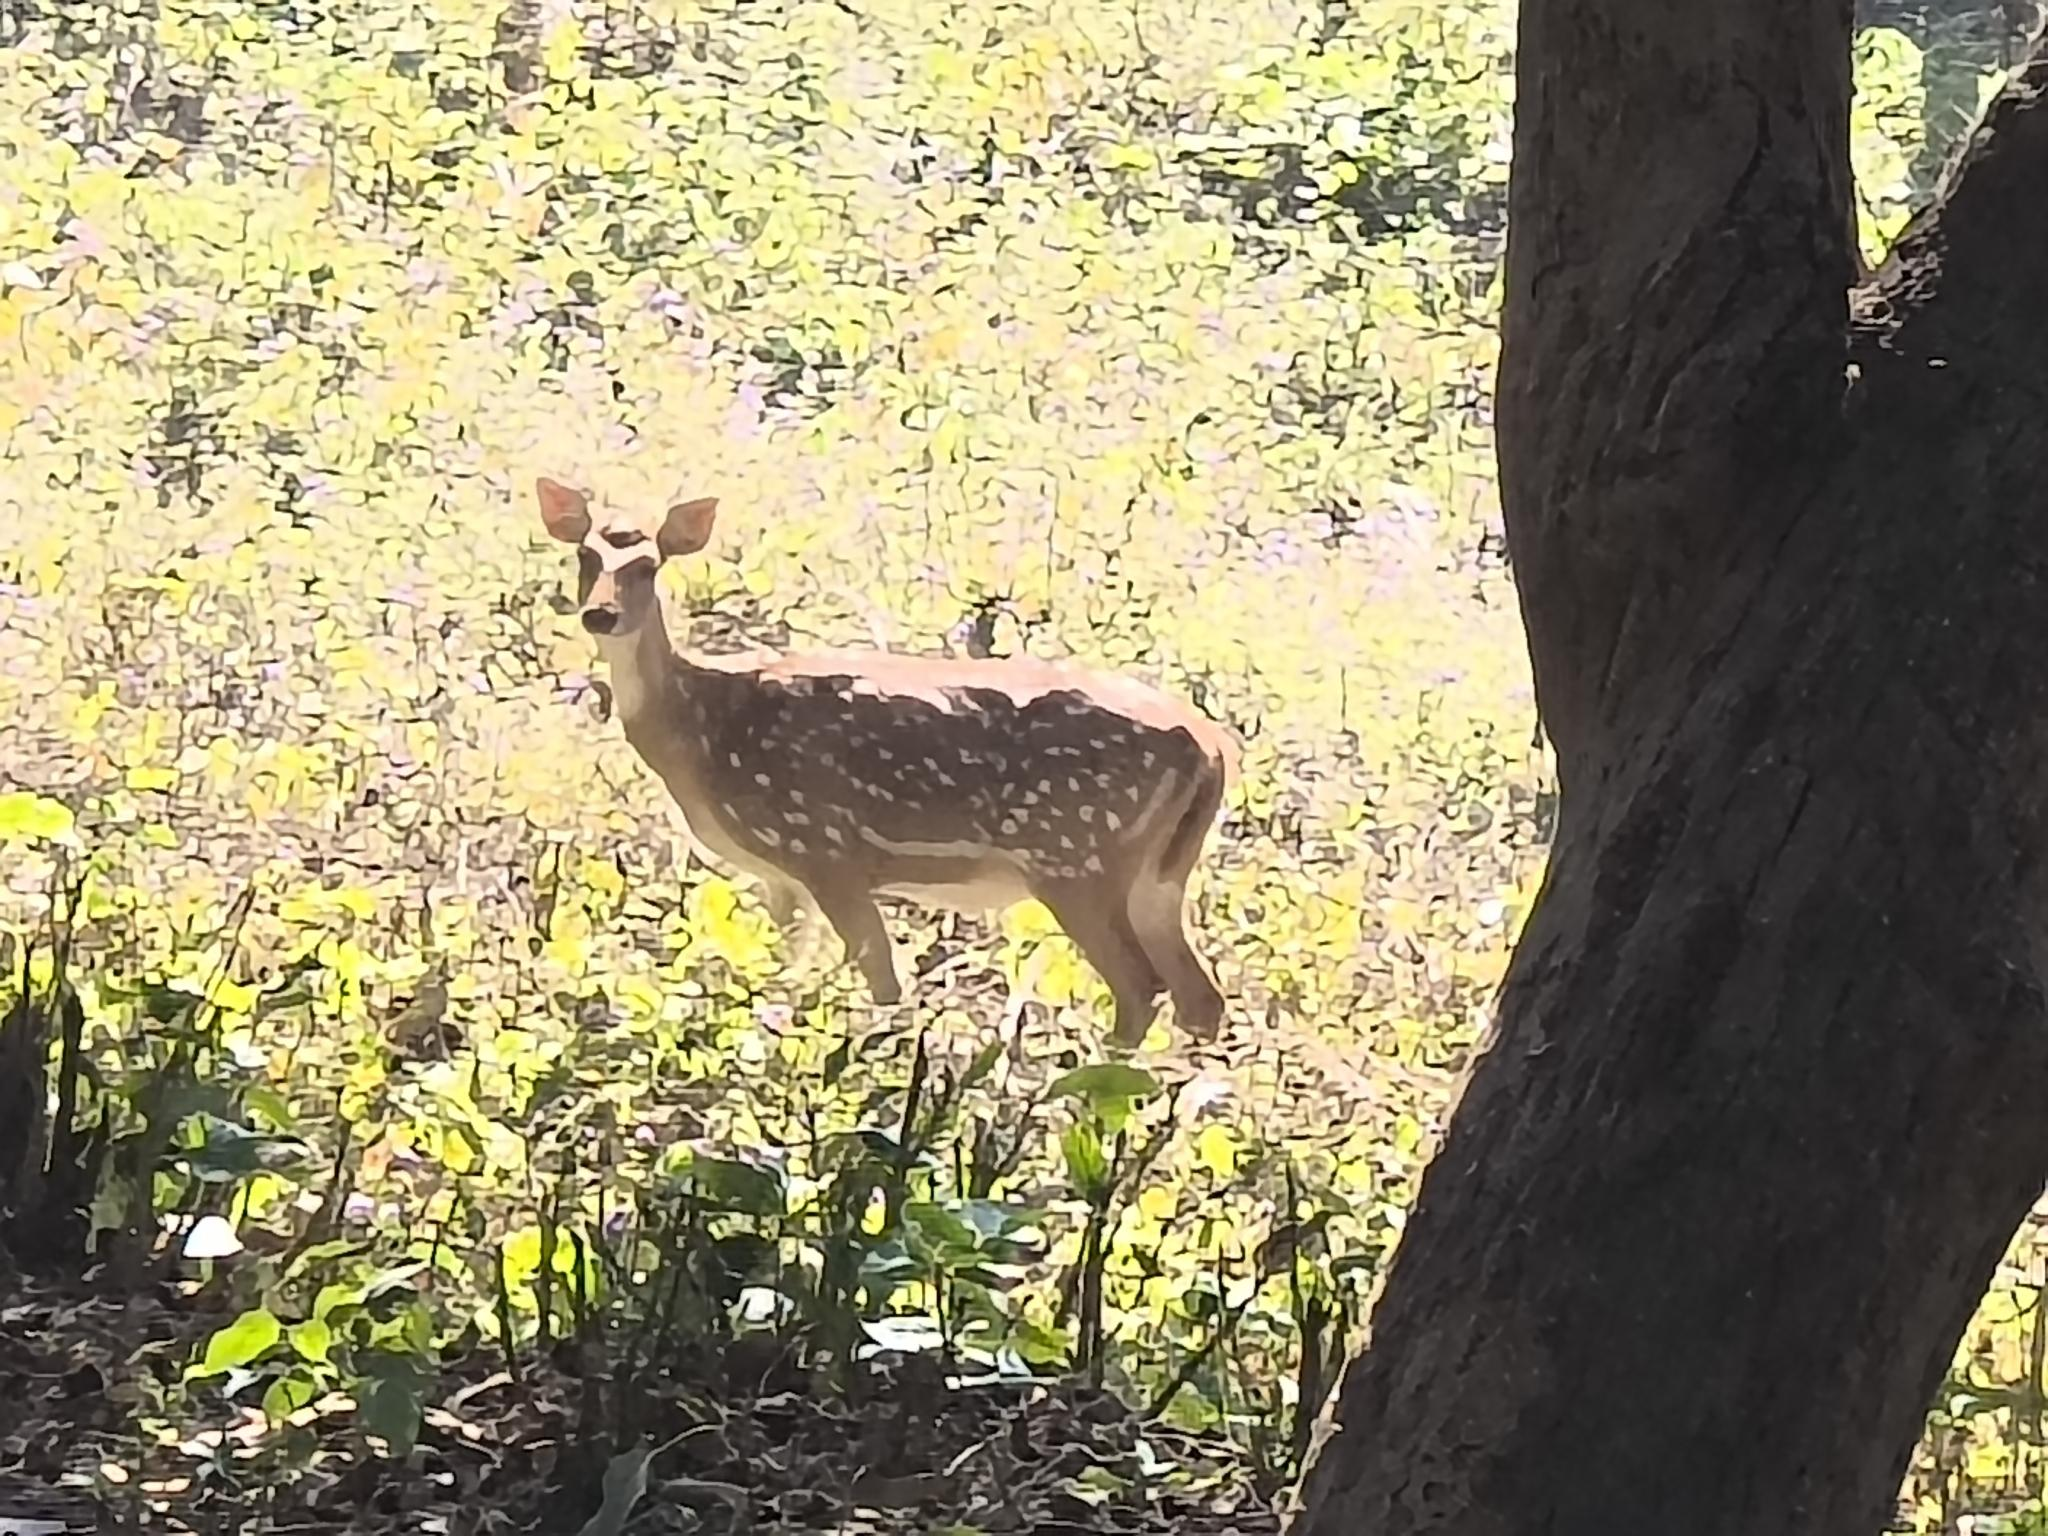Deer: (535, 478, 1238, 1047)
